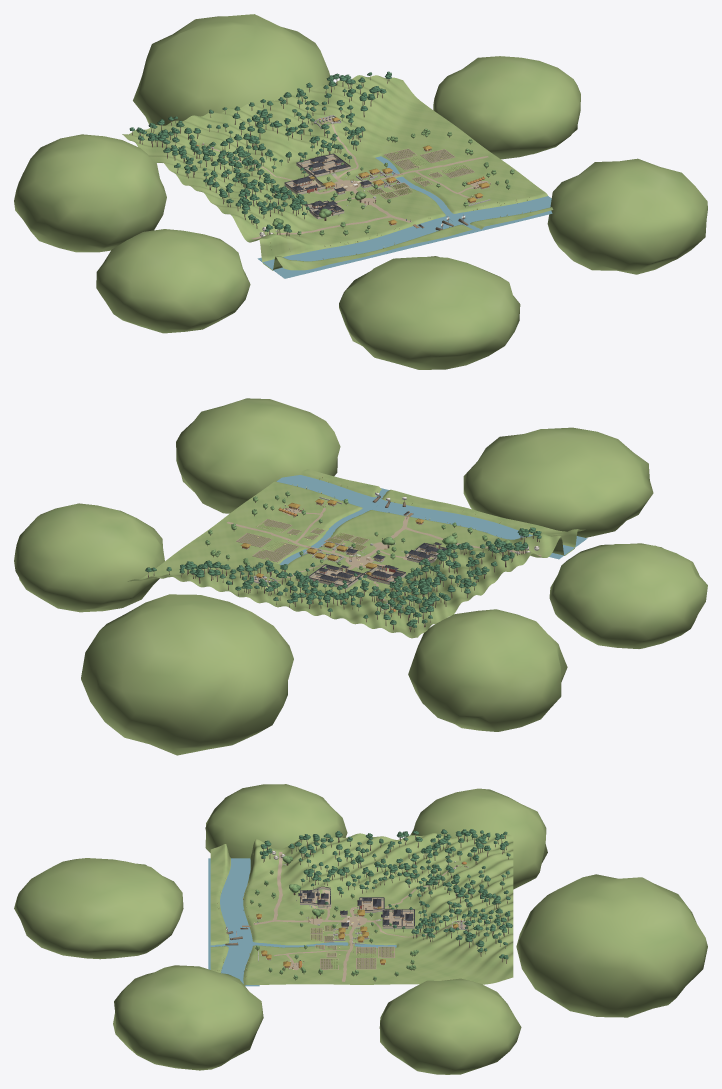
File: joseon.glb
The picture shows the model from 3 angles, top to bottom: view 1: azimuth 30°, elevation 25°; view 2: azimuth 150°, elevation 25°; view 3: azimuth 270°, elevation 25°; orthographic projection. The views are drawn at different scales.
Visible parts, largest first — view 1: static_grass, static_pine, static_water, static_dirt, static_bark, static_paddy, static_tile, static_rice, static_leaf2; view 2: static_grass, static_pine, static_water, static_dirt, static_tile, static_bark, static_paddy, static_rice, static_leaf2; view 3: static_grass, static_pine, static_water, static_dirt, static_bark, static_paddy, static_tile, static_rice, static_leaf2.
Part boxes in pixels (box(x1,y1,x2,y2)): static_grass: box(14, 14, 707, 369); static_pine: box(129, 71, 391, 232); static_water: box(257, 156, 552, 278); static_dirt: box(210, 117, 488, 239); static_bark: box(132, 76, 466, 236); static_paddy: box(368, 149, 473, 198); static_tile: box(284, 153, 371, 216); static_rice: box(270, 149, 530, 254); static_leaf2: box(272, 128, 514, 235); static_grass: box(14, 398, 707, 755); static_pine: box(145, 527, 541, 627); static_water: box(276, 475, 587, 565); static_dirt: box(227, 508, 541, 607); static_tile: box(308, 542, 451, 585); static_bark: box(148, 516, 533, 631); static_paddy: box(237, 519, 367, 561); static_rice: box(238, 476, 501, 563); static_leaf2: box(205, 491, 513, 571); static_grass: box(14, 784, 707, 1074); static_pine: box(259, 829, 512, 959); static_water: box(208, 858, 396, 986); static_dirt: box(253, 852, 467, 981); static_bark: box(261, 834, 508, 963); static_paddy: box(311, 926, 394, 969); static_tile: box(298, 886, 414, 926); static_rice: box(217, 884, 393, 976); static_leaf2: box(250, 855, 418, 980).
Bounding box in the file's own units: 514 × 114 × 596.
Materials: 44 (6 with a texture image).
